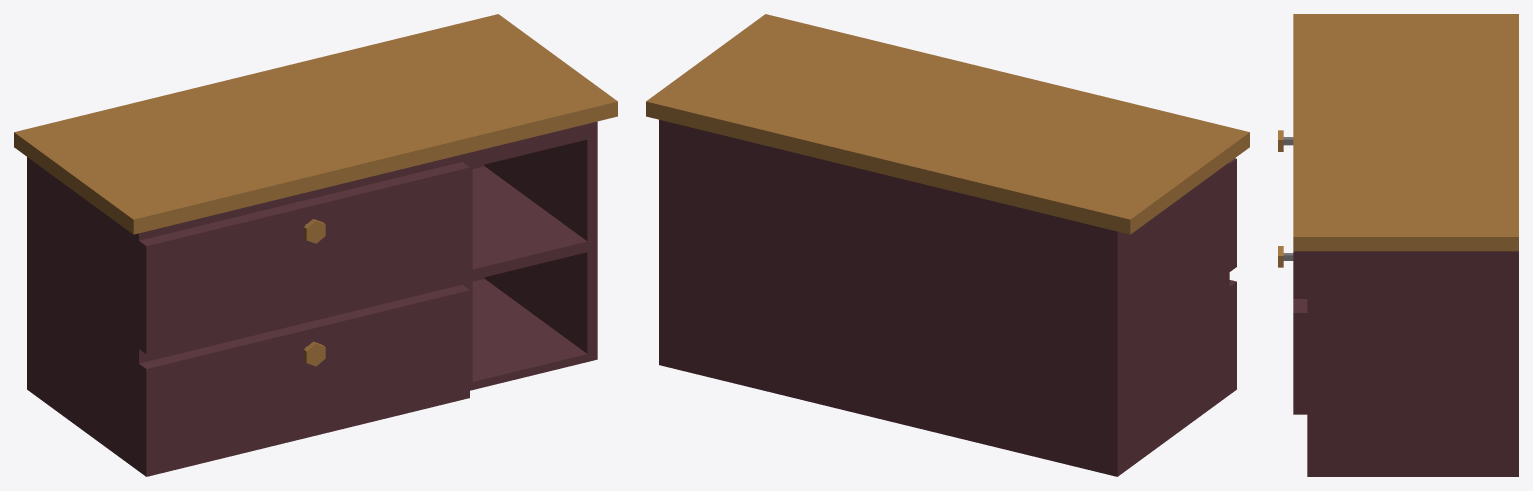
The model's file is cabinet-bathroom-long.fbx.
The picture shows the model from 3 angles, left to right: view 1: azimuth 30°, elevation 25°; view 2: azimuth 150°, elevation 25°; view 3: azimuth 270°, elevation 25°; orthographic projection. The views are drawn at different scales.
Parts seen in each view (by area): view 1: cabinet-bathroom-long; view 2: cabinet-bathroom-long; view 3: cabinet-bathroom-long.
Boxes of the visible parts, x1=… form: cabinet-bathroom-long: x1=14, y1=14, x2=617, y2=476; cabinet-bathroom-long: x1=646, y1=14, x2=1249, y2=476; cabinet-bathroom-long: x1=1278, y1=14, x2=1518, y2=476.
Size of the model in its own units: 1.2 by 0.6155 by 0.5465.
